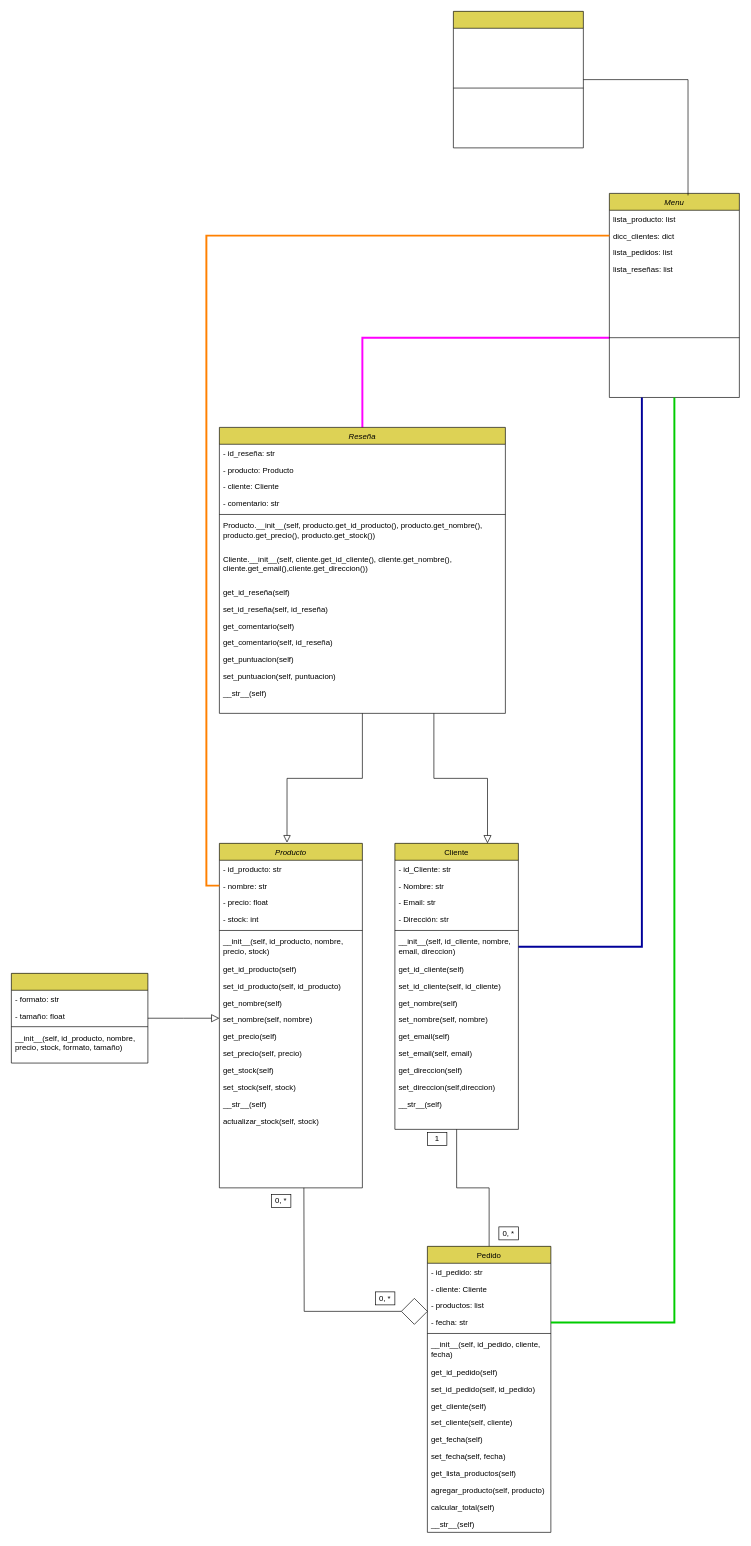
This 751x1546 diagram has some shape labels left out. Each missing label, with the box of its shape:
Main: (453, 11, 583, 148)
ProductoDIgital: (11, 973, 148, 1063)
